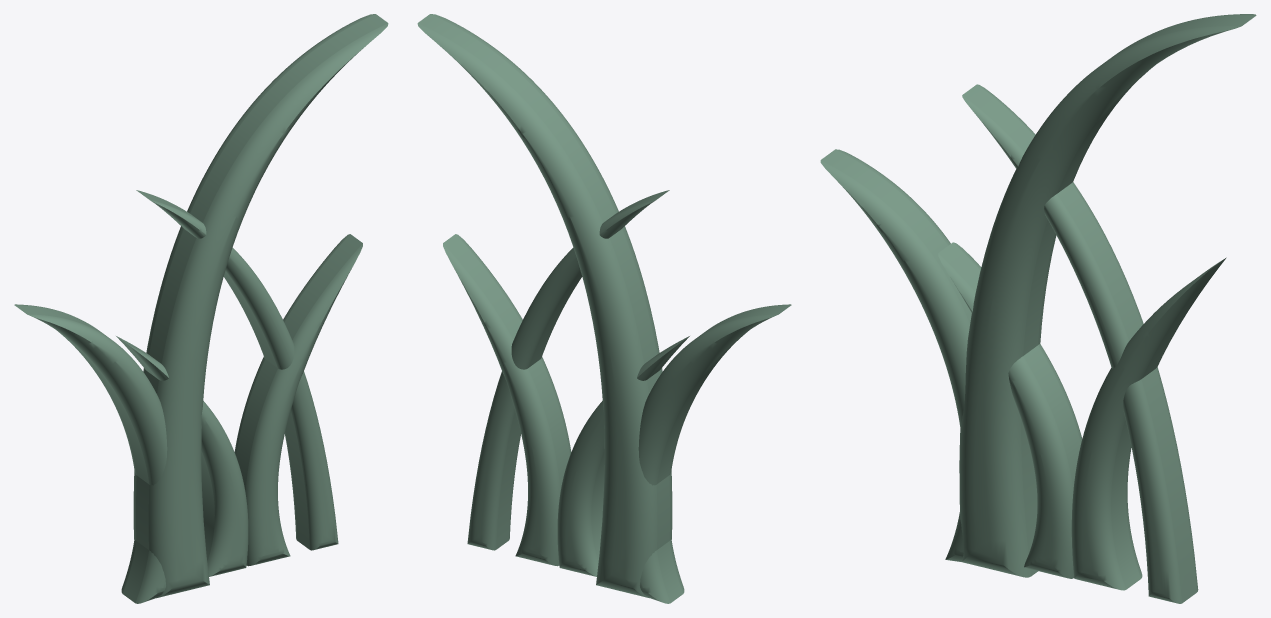
The model's file is grass.gltf.
3 views of the same model, side by side, from view 1: azimuth 30°, elevation 25°; view 2: azimuth 150°, elevation 25°; view 3: azimuth 330°, elevation 25° (orthographic). The views are drawn at different scales.
Size of the model in its own units: 0.0749 by 0.1026 by 0.012.
